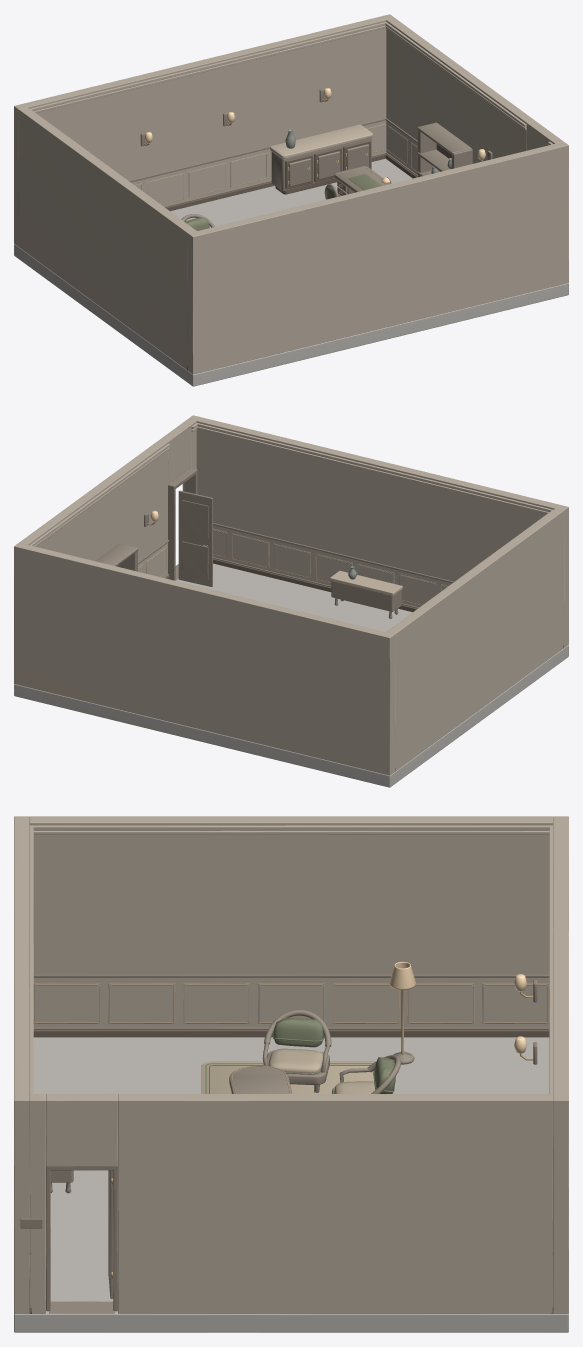
The model's file is HotelH07_FinalPolish.fbx.
The picture shows the model from 3 angles, top to bottom: view 1: azimuth 30°, elevation 25°; view 2: azimuth 150°, elevation 25°; view 3: azimuth 270°, elevation 25°; orthographic projection. The views are drawn at different scales.
Visible parts, largest first — view 1: Continuous finished wall.001, Continuous finished wall, Continuous finished wall.002, Load-bearing doorway return, Uniform foundation, Honed stone display top, Continuous stepped wall trim.004, Continuous stepped wall trim.003, Inset finished panel field.004, Inset finished panel field.005, Joined three-bay cabinet body, Inset finished panel field.003 (+11 smaller); view 2: Continuous finished wall, Continuous finished wall.001, Continuous finished wall.002, Uniform foundation, Load-bearing doorway return, Continuous stepped wall trim.019, Solid paneled walnut leaf, Load-bearing doorway return.002, Mortised hardwood case, Continuous stepped wall trim.018, Inset finished panel field.017, Inset finished panel field.018 (+11 smaller); view 3: Load-bearing doorway return, Continuous finished wall.002, Uniform foundation, Continuous finished wall, Continuous finished wall.001, Load-bearing doorway return.002, Continuous stepped wall trim.020, Load-bearing doorway return.001, Continuous stepped wall trim.024, Inset finished panel field.025, Inset finished panel field.026, Inset finished panel field.027 (+40 smaller).
Boxes of the visible parts, x1,y1,x2,y2 form: Continuous finished wall.001: [188, 141, 568, 374]; Continuous finished wall: [14, 14, 394, 246]; Continuous finished wall.002: [19, 107, 195, 369]; Load-bearing doorway return: [386, 18, 534, 174]; Uniform foundation: [14, 158, 568, 386]; Honed stone display top: [270, 124, 372, 158]; Continuous stepped wall trim.004: [29, 22, 386, 111]; Continuous stepped wall trim.003: [34, 25, 385, 113]; Inset finished panel field.004: [188, 163, 225, 197]; Inset finished panel field.005: [230, 153, 267, 187]; Joined three-bay cabinet body: [271, 138, 371, 191]; Inset finished panel field.003: [146, 173, 183, 204]; Continuous finished wall: [14, 542, 394, 775]; Continuous finished wall.001: [188, 415, 568, 647]; Continuous finished wall.002: [387, 508, 563, 771]; Uniform foundation: [14, 563, 568, 787]; Load-bearing doorway return: [19, 440, 167, 577]; Continuous stepped wall trim.019: [197, 423, 553, 512]; Solid paneled walnut leaf: [178, 490, 212, 586]; Load-bearing doorway return.002: [160, 423, 191, 484]; Mortised hardwood case: [331, 581, 401, 611]; Continuous stepped wall trim.018: [197, 426, 548, 514]; Inset finished panel field.017: [232, 533, 269, 568]; Inset finished panel field.018: [273, 543, 310, 578]; Load-bearing doorway return: [118, 1094, 553, 1313]; Continuous finished wall.002: [29, 816, 553, 1027]; Uniform foundation: [14, 1037, 568, 1332]; Continuous finished wall: [553, 816, 568, 1313]; Continuous finished wall.001: [14, 816, 29, 1313]; Load-bearing doorway return.002: [46, 1094, 117, 1166]; Continuous stepped wall trim.020: [33, 1030, 549, 1037]; Load-bearing doorway return.001: [29, 1094, 45, 1313]; Continuous stepped wall trim.024: [30, 825, 553, 830]; Inset finished panel field.025: [33, 983, 100, 1023]; Inset finished panel field.026: [108, 983, 175, 1023]; Inset finished panel field.027: [183, 983, 249, 1023].
Size of the model in its own units: 10.31 by 3.92 by 8.48.
